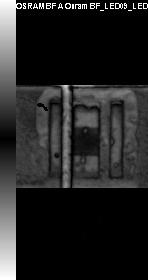led: (50, 104, 121, 177)
